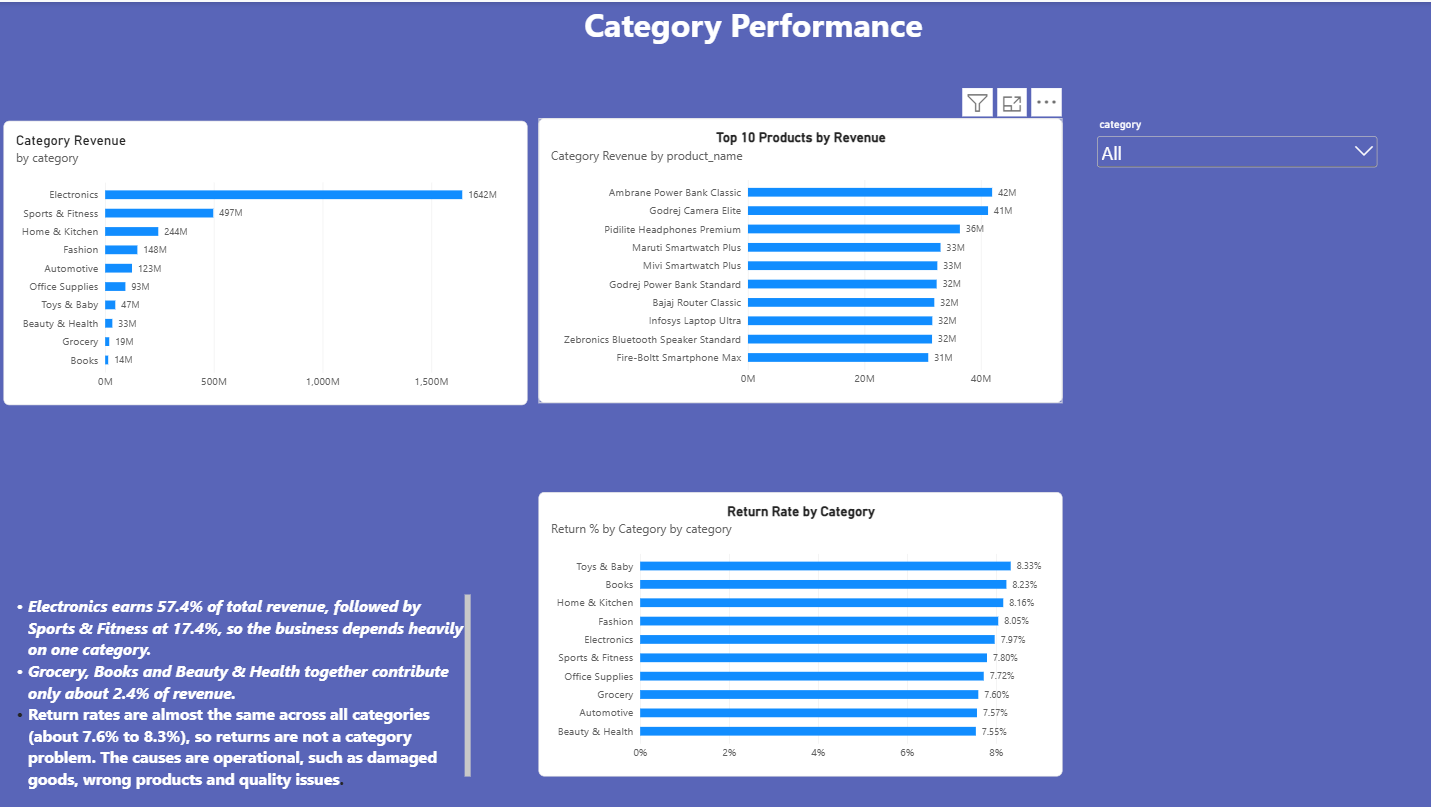

The dashboard page shown, as its layout file describes it:
{"tool":"powerbi","page":{"name":"Category Performance","canvas":[1920,1080],"ordinal":1},"visuals":[{"type":"textbox","box":[734,0,554,60],"z":0},{"type":"clusteredBarChart","fields":{"Category":["order_items.category"],"Y":["order_items.Category Revenue"]},"box":[10,158,700,380],"z":1000},{"type":"clusteredBarChart","title":"Top 10 Products by Revenue","fields":{"Category":["order_items.product_name"],"Y":["order_items.Category Revenue"]},"box":[724,156,700,380],"z":2000},{"type":"clusteredBarChart","title":"Return Rate by Category","fields":{"Category":["order_items.category"],"Y":["order_items.Return % by Category"]},"box":[724,654,700,380],"z":3000},{"type":"slicer","fields":{"Values":["order_items.category"]},"box":[1466,156,384,362],"z":4000},{"type":"textbox","box":[10,792,624,260],"z":5000}]}

Visuals, with their boxes in screenshot pixels (x1, y1, x2, y2), scaled from the page's 1920x1080 canvas onto the 1431x807 screenshot:
textbox: select_region(547, 0, 960, 45)
clusteredBarChart - order_items.category x order_items.Category Revenue: select_region(7, 118, 529, 402)
"Top 10 Products by Revenue" clusteredBarChart: select_region(540, 117, 1061, 401)
"Return Rate by Category" clusteredBarChart: select_region(540, 489, 1061, 773)
slicer - order_items.category: select_region(1093, 117, 1379, 387)
textbox: select_region(7, 592, 473, 786)
